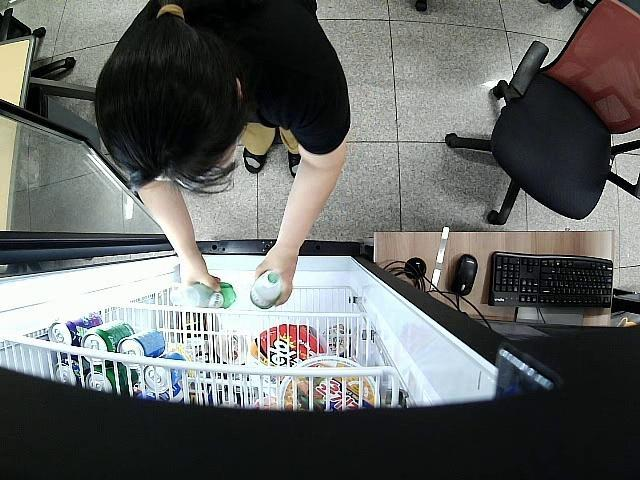18_trevi: (167, 283, 236, 314), (250, 273, 286, 310)
